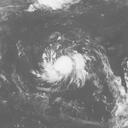cyclone: (32, 44, 88, 90)
